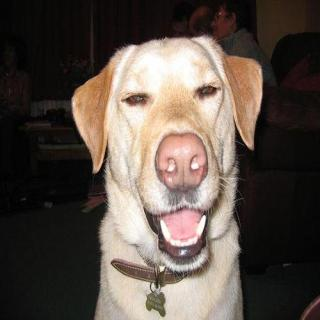dog: (64, 28, 274, 280)
nose: (153, 134, 207, 192)
